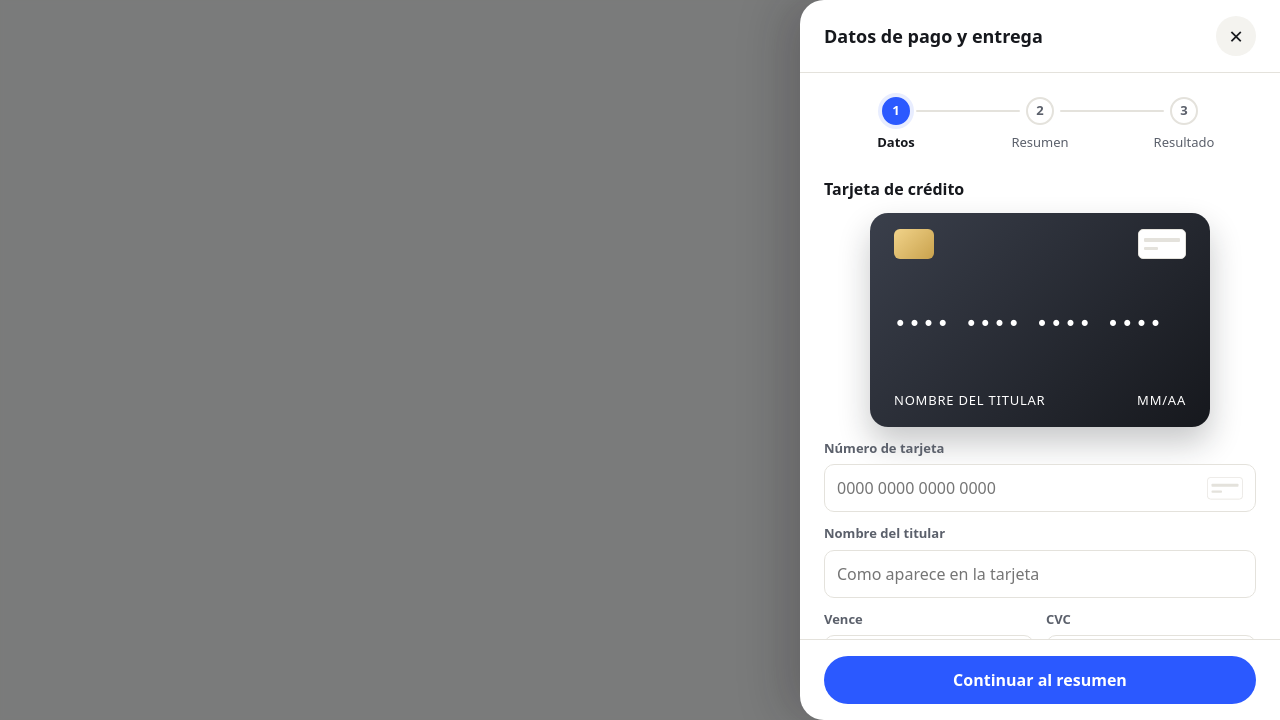
Scenario: CheckoutModal › formats the card while typing and shows the brand
Step 1. Type "5555555555554444" into the field labelled "Número de tarjeta" → (1016,488), box [825,465,1207,511]
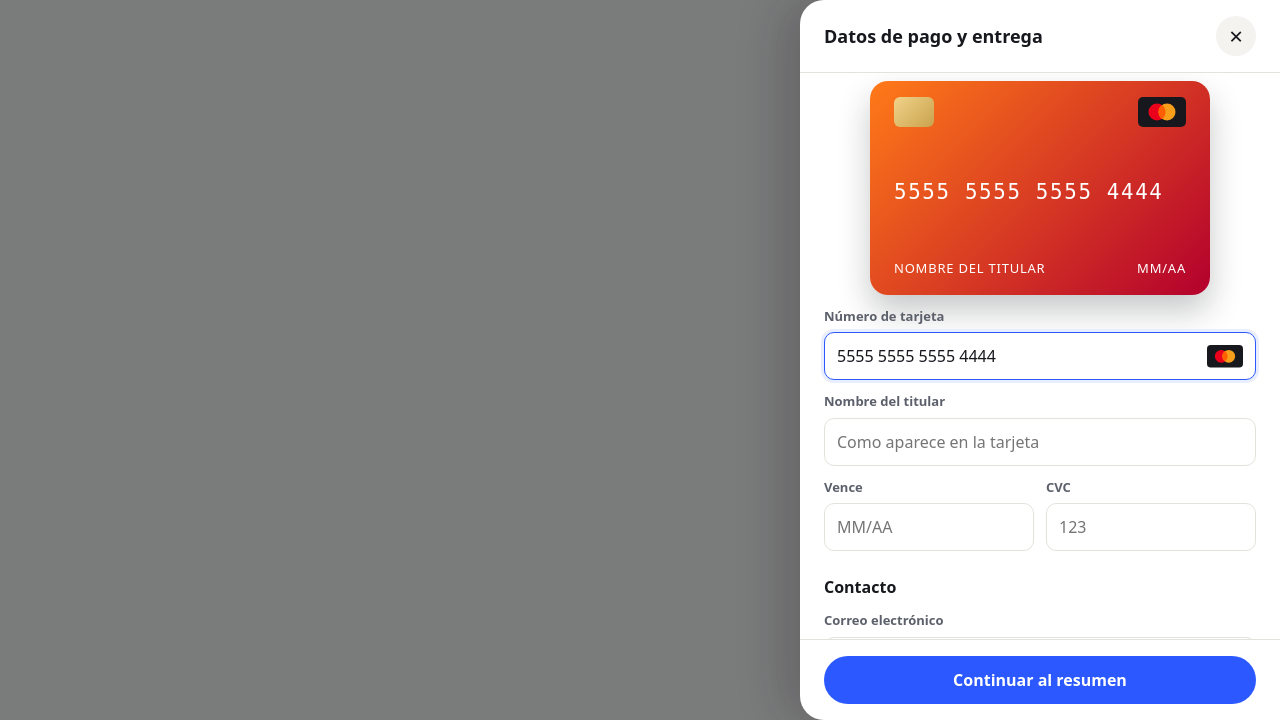
Step 2. Type "Ana Gomez" into the field labelled "Nombre del titular" → (1040,442), box [825,419,1255,465]
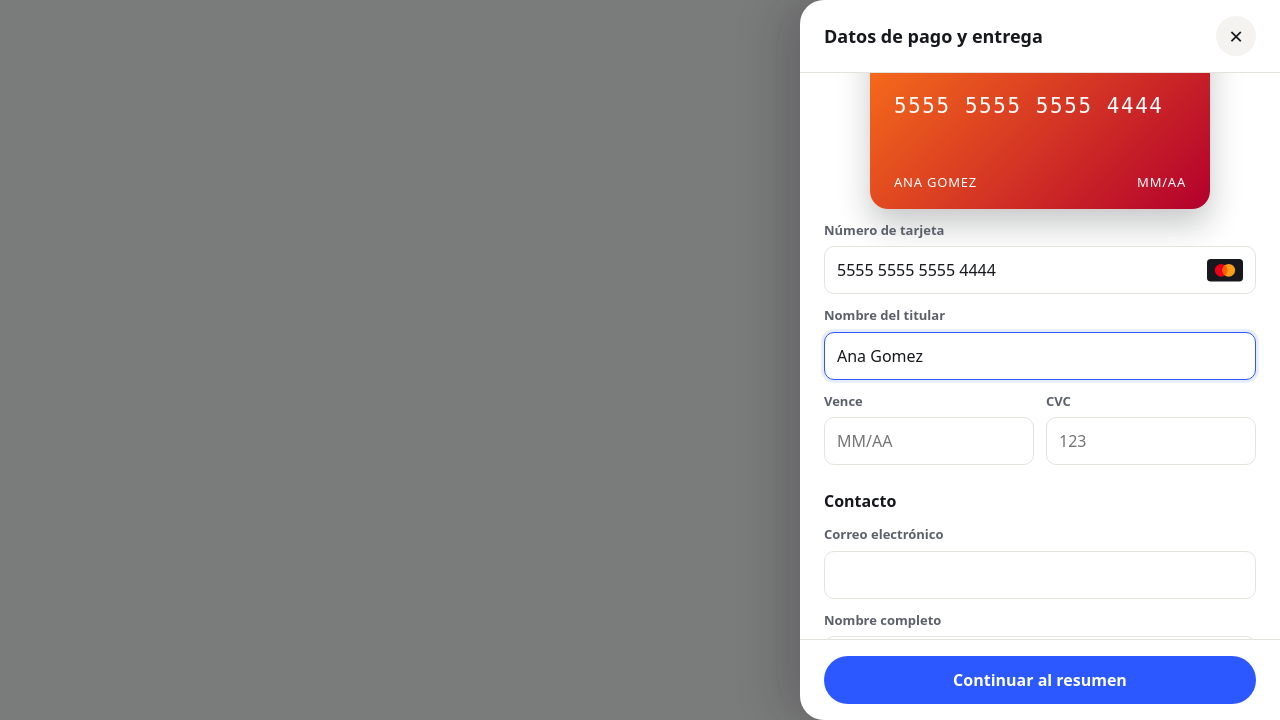
Step 3. Type "1229" into the field labelled "Vence" → (929,441), box [825,418,1033,464]
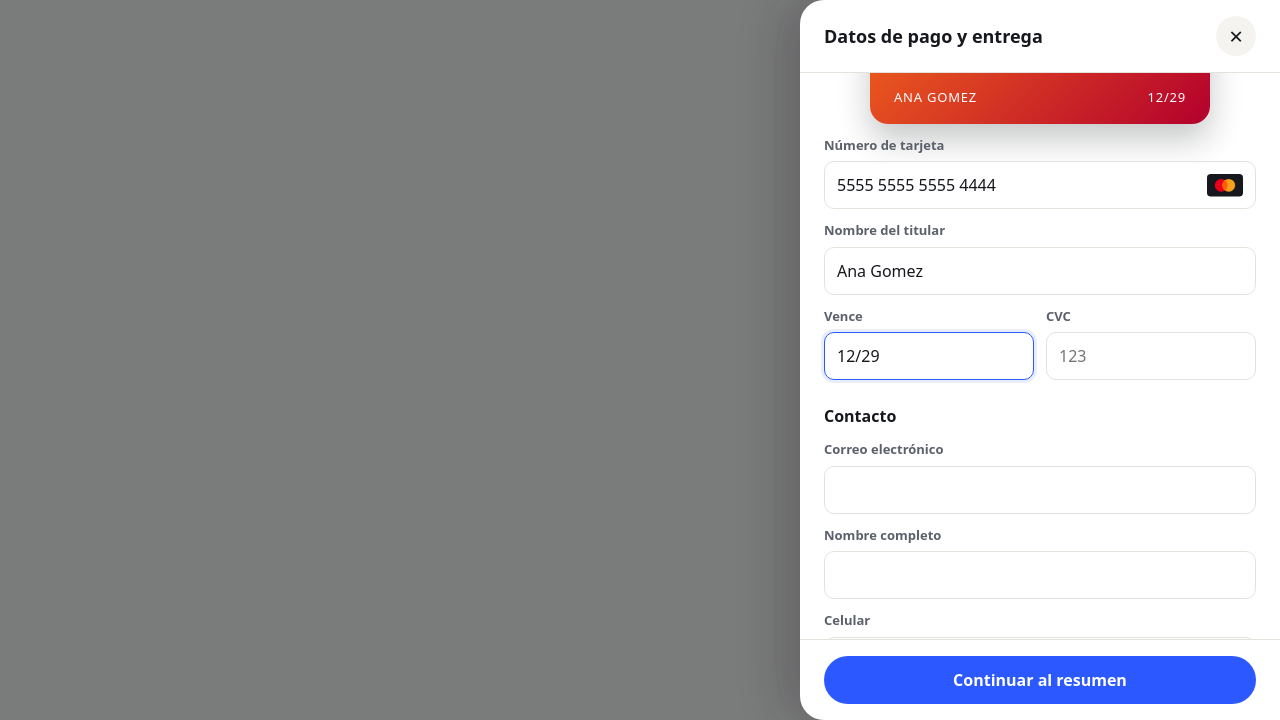
Step 4. Type "123a" into the password field labelled "CVC" → (1151,356), box [1047,333,1255,379]
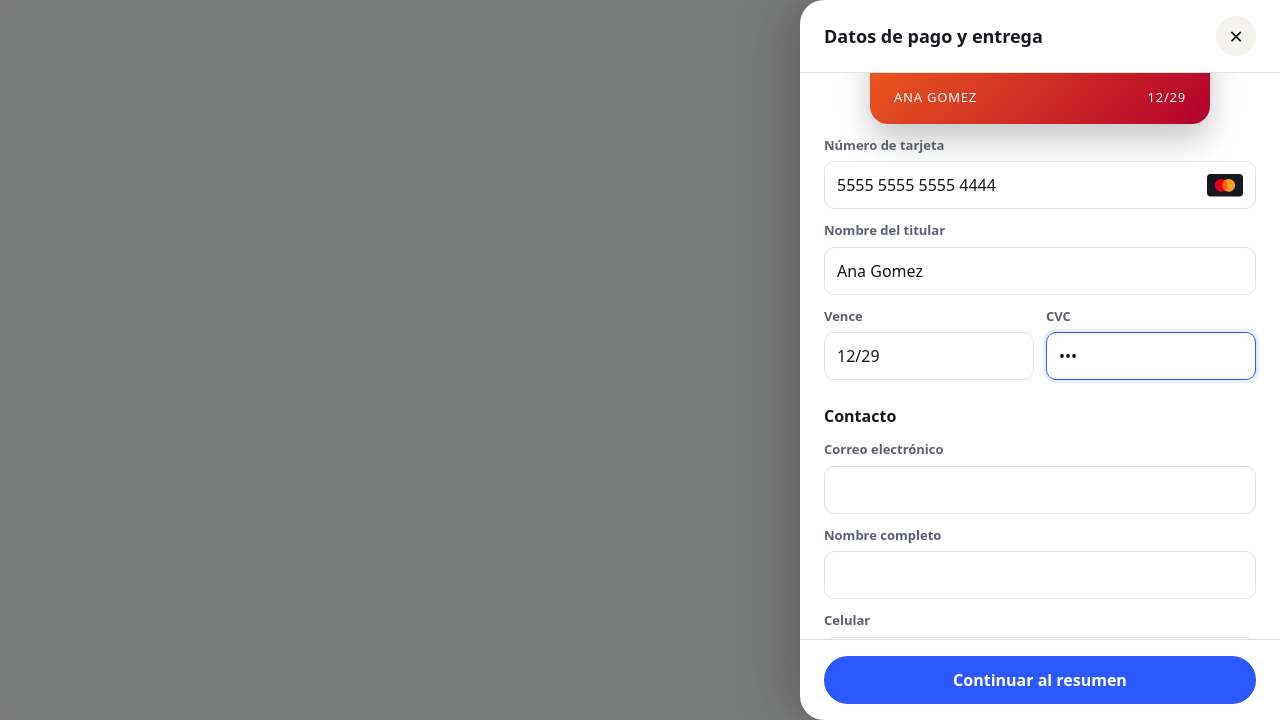
Expected: the field labelled "Número de tarjeta" holds "5555 5555 5555 4444", [825,162,1207,208]
Expected: the field labelled "Vence" holds "12/29", [825,333,1033,379]
Expected: the password field labelled "CVC" holds "123", [1047,333,1255,379]
